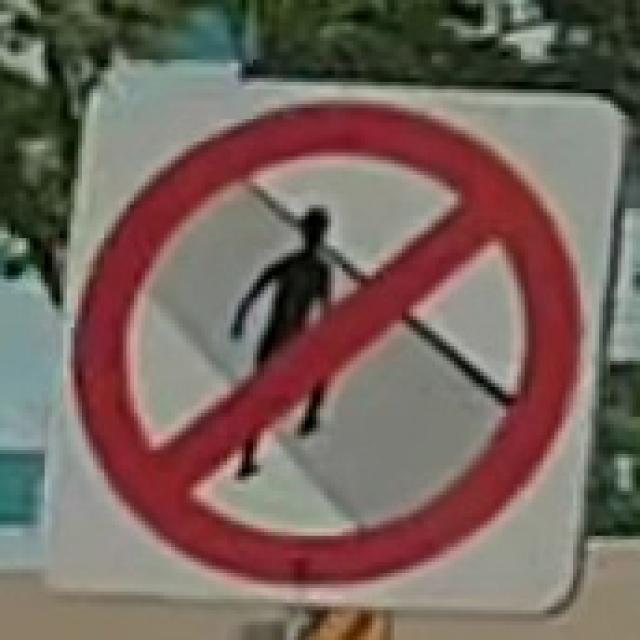nojaywalking_sign: (45, 52, 625, 614)
